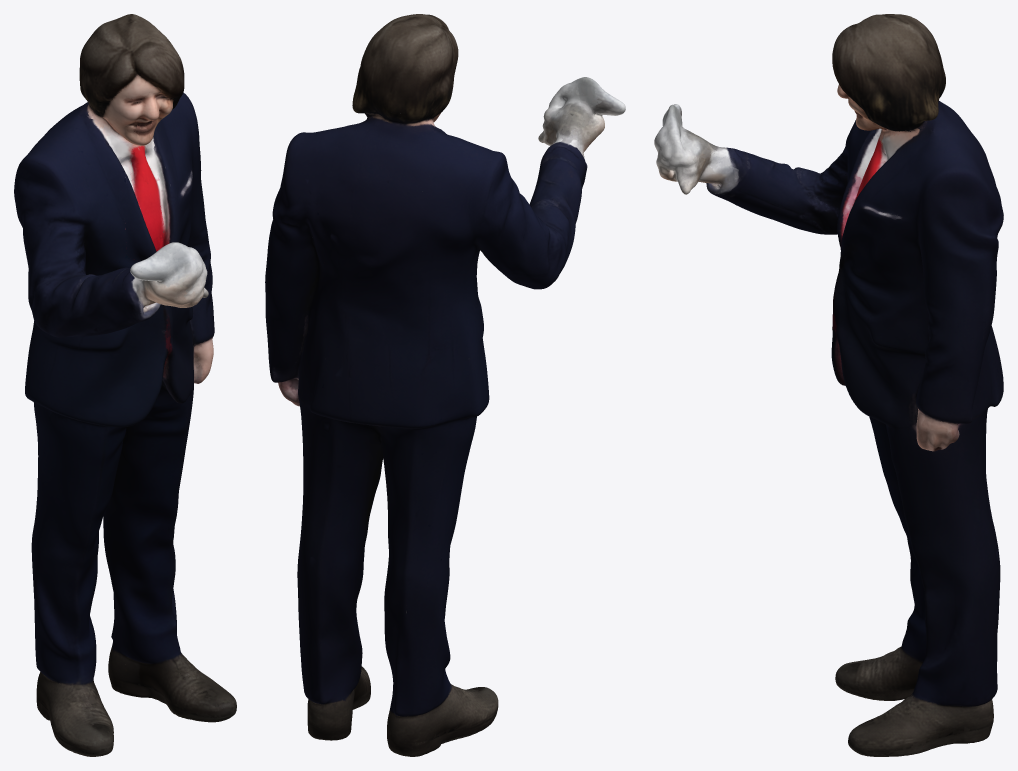
File: manwithsuit1.glb
3 renders of one model, left to right at view 1: azimuth 30°, elevation 25°; view 2: azimuth 150°, elevation 25°; view 3: azimuth 270°, elevation 25°, orthographic.
Visible parts, largest first — view 1: world; view 2: world; view 3: world.
Part boxes in pixels (bbox=[...]): world: bbox=[14, 14, 236, 756]; world: bbox=[265, 14, 625, 756]; world: bbox=[654, 14, 1003, 756].
Bounding box in the file's own units: 0.3461 × 1 × 0.4544.
1 material, 1 textured.
